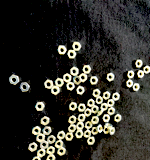nut: (9, 75, 19, 85), (42, 126, 52, 136), (19, 83, 30, 92), (28, 143, 38, 152), (35, 102, 45, 111), (41, 116, 50, 126), (47, 135, 56, 145), (54, 140, 64, 149), (44, 80, 54, 89), (51, 86, 60, 96), (55, 78, 64, 88), (57, 46, 67, 55), (67, 50, 77, 59), (72, 42, 82, 51), (79, 73, 88, 83), (37, 149, 46, 158), (40, 141, 49, 150), (36, 134, 45, 143), (32, 127, 41, 136), (57, 131, 66, 140), (63, 74, 72, 83), (66, 82, 75, 91), (73, 76, 82, 85), (68, 116, 77, 125), (69, 102, 78, 111), (77, 114, 86, 123), (91, 116, 100, 125), (47, 146, 55, 156), (71, 67, 79, 77), (57, 148, 66, 156), (77, 86, 85, 95), (83, 66, 92, 74), (90, 77, 99, 85), (107, 73, 115, 82), (65, 133, 74, 141), (68, 125, 77, 133), (75, 131, 84, 139), (76, 123, 85, 131), (84, 130, 92, 139), (85, 121, 93, 130), (93, 89, 101, 98), (108, 107, 116, 116), (107, 99, 115, 108), (78, 104, 86, 112), (91, 127, 99, 135), (96, 109, 104, 117), (100, 103, 108, 111), (103, 92, 111, 100), (112, 93, 120, 101), (127, 71, 135, 79), (135, 60, 143, 68), (85, 109, 92, 118), (88, 99, 95, 108), (87, 138, 95, 145), (92, 106, 99, 114), (96, 97, 103, 105), (109, 127, 116, 135), (103, 115, 110, 123), (115, 115, 122, 123), (127, 80, 134, 88), (137, 71, 145, 78), (97, 125, 103, 134), (133, 84, 140, 91), (144, 66, 150, 74), (47, 155, 56, 160), (105, 124, 113, 129), (103, 128, 109, 134), (32, 157, 41, 160)
